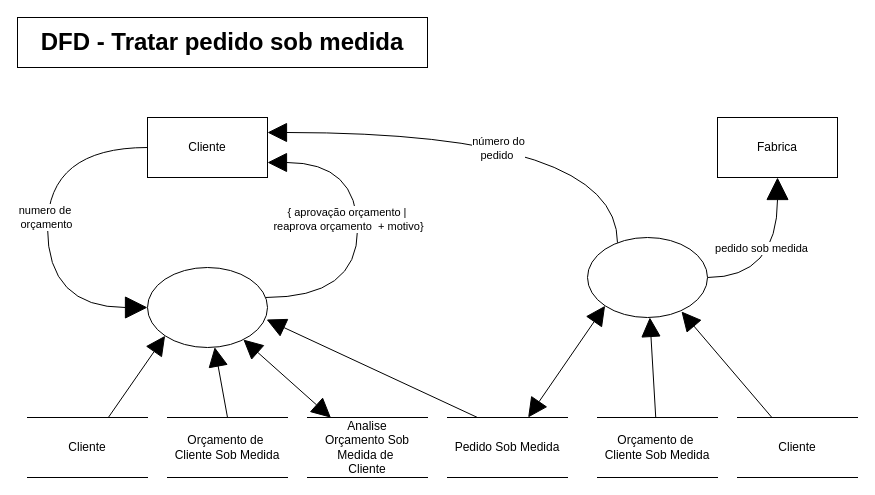
Some shapes in this 875 by 495 pixel diagram are drawn without their labels. Each missing label, with the centre of its shape:
"Analisar Orçamento Sob Medida" goes at (207,307).
"Gerar Pedido Sob Medida" goes at (647,277).
